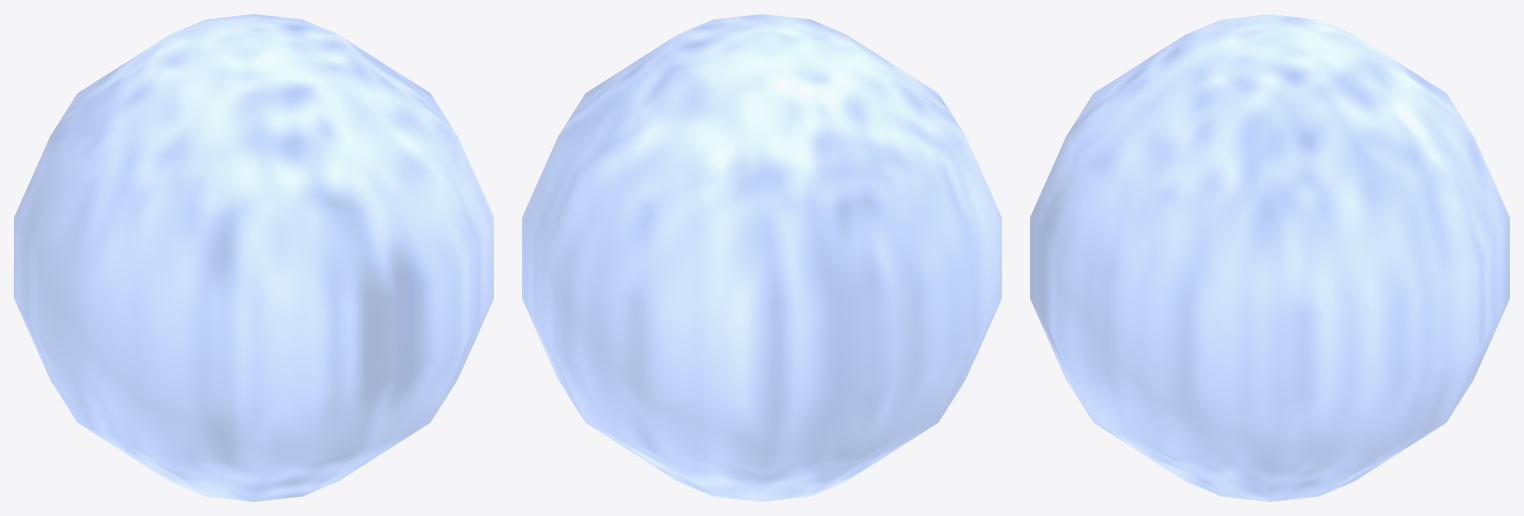
The model's file is mm9_deco_waterorb.glb.
3 views of the same model, side by side, from view 1: azimuth 30°, elevation 25°; view 2: azimuth 150°, elevation 25°; view 3: azimuth 270°, elevation 25° (orthographic).
Visible parts, largest first — view 1: Waterorb; view 2: Waterorb; view 3: Waterorb.
Part boxes in pixels (box(x1,y1,x2,y2)): Waterorb: box(14, 14, 493, 501); Waterorb: box(522, 14, 1001, 501); Waterorb: box(1030, 14, 1509, 501).
Size of the model in its own units: 0.4929 by 0.5013 by 0.4928.
Materials: 1 (1 with a texture image).
